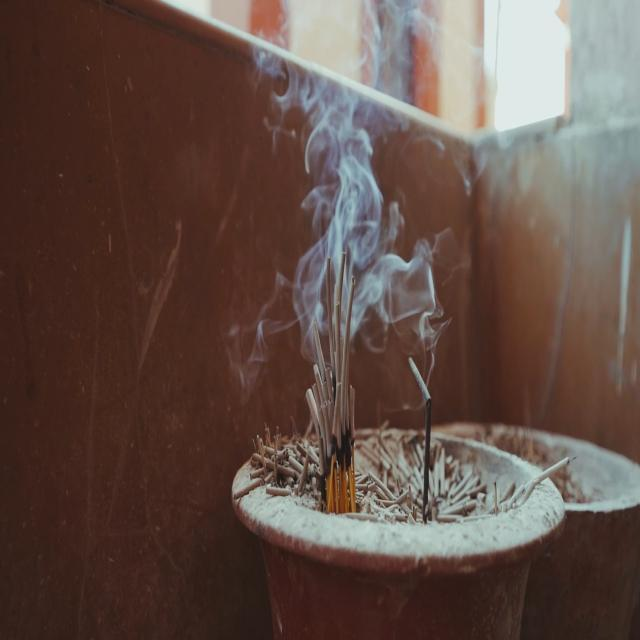fire: (250, 0, 452, 388)
